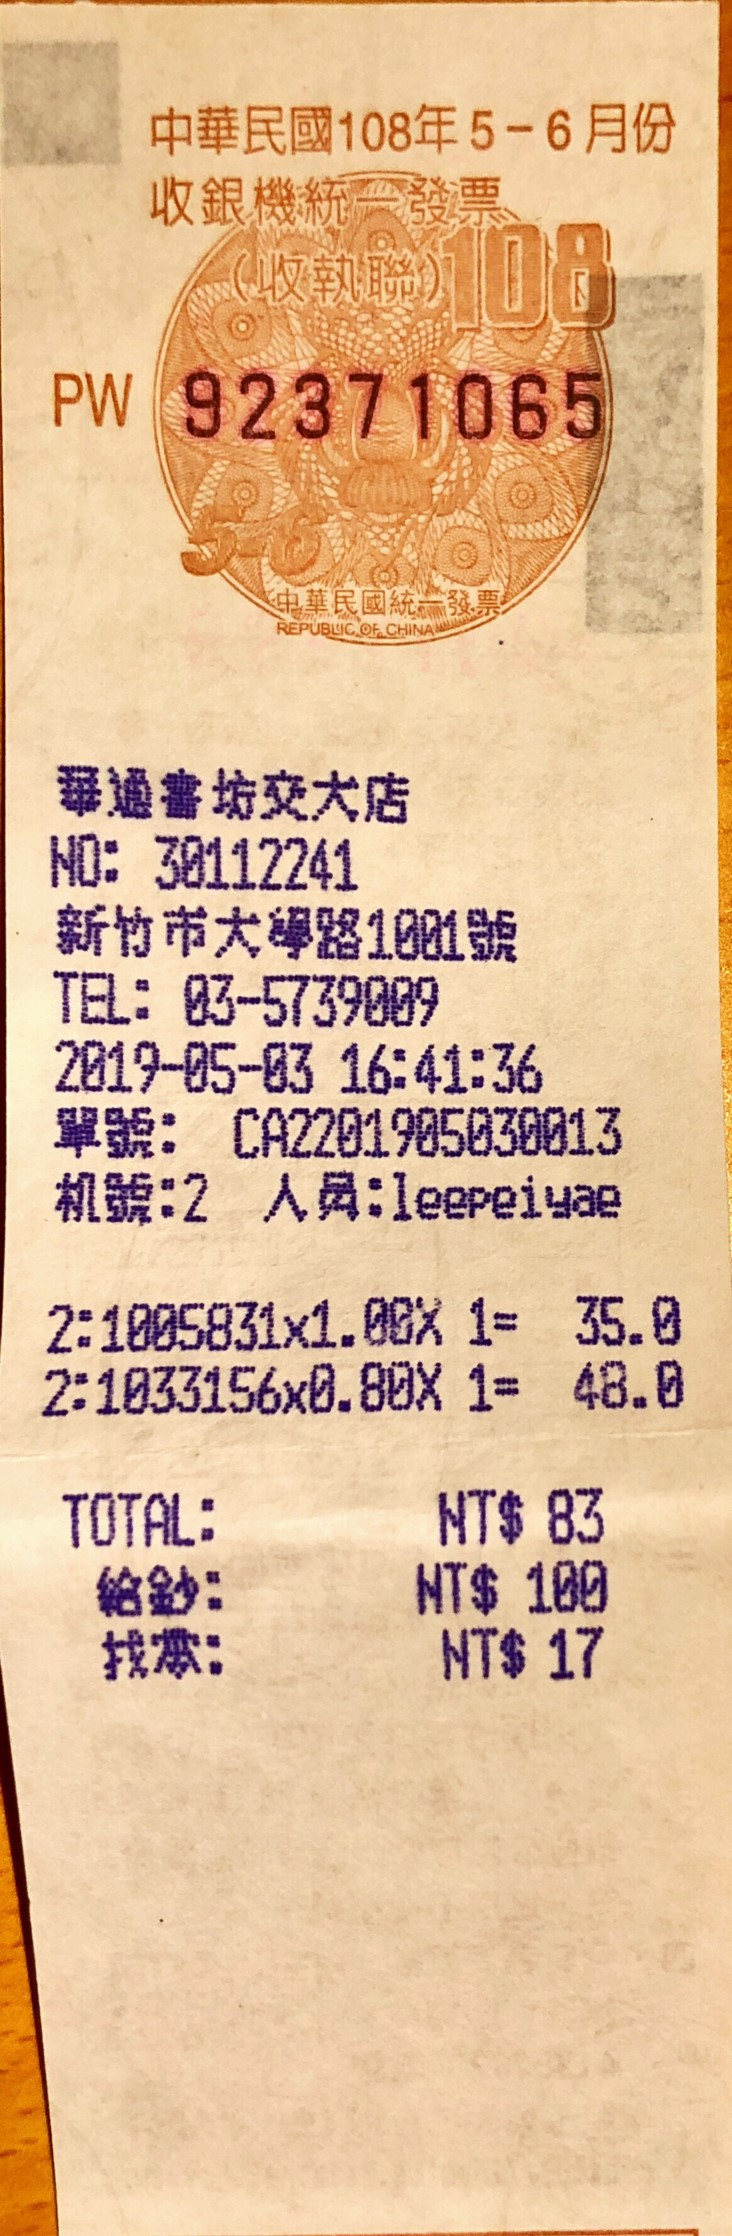Date_Old: (335, 100, 678, 163)
Number_Old: (176, 357, 608, 445)
